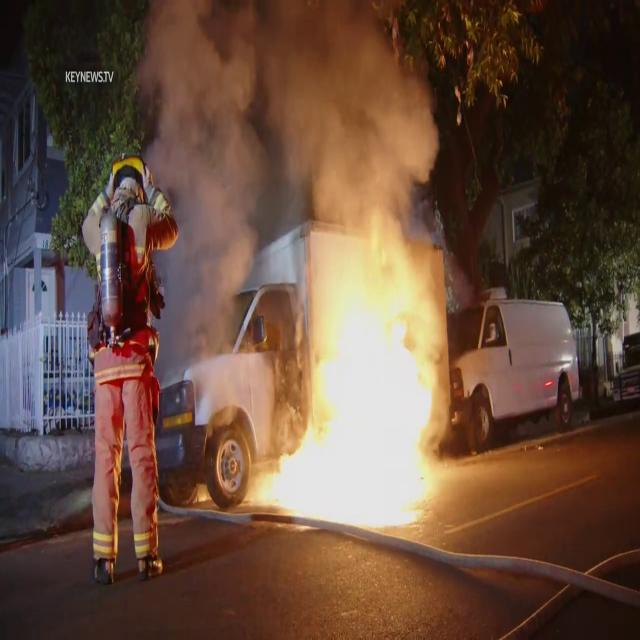Fire: (260, 221, 448, 535)
Smoke: (144, 0, 450, 294)
